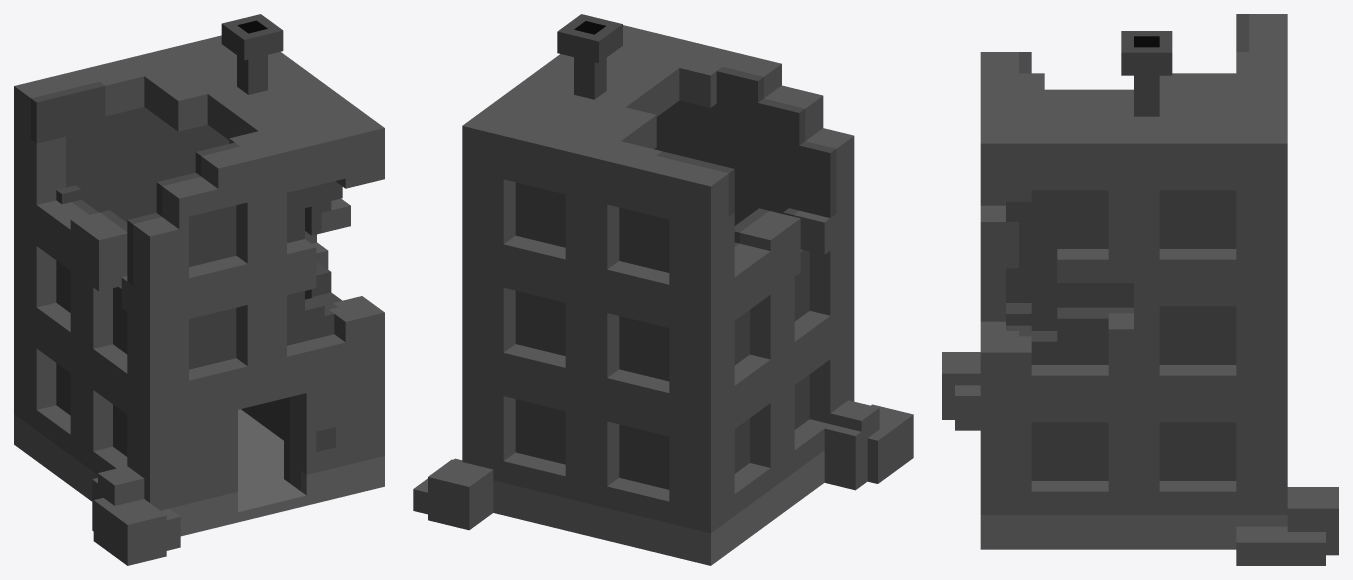
File: building.obj
3 renders of one model, left to right at view 1: azimuth 30°, elevation 25°; view 2: azimuth 150°, elevation 25°; view 3: azimuth 270°, elevation 25°, orthographic. The views are drawn at different scales.
Size of the model in its own units: 31 by 41 by 31.
1 material, 1 textured.
